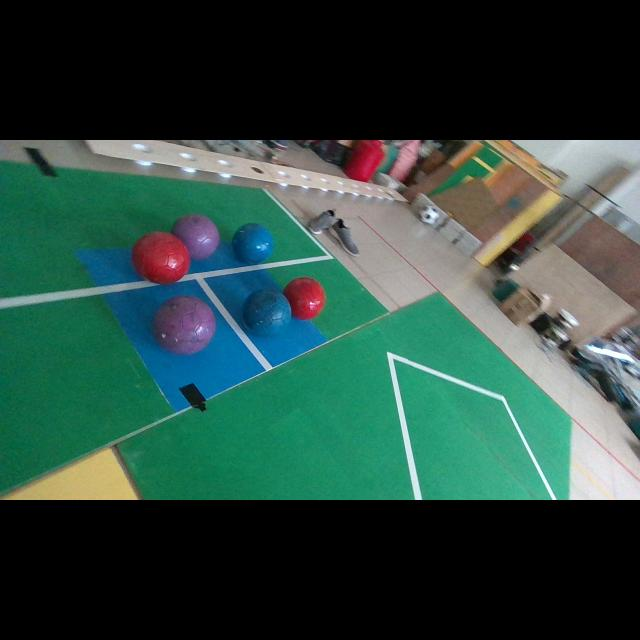B: (242, 290, 291, 337), (232, 224, 272, 264)
P: (152, 295, 216, 354), (171, 215, 220, 259)
R: (131, 231, 190, 284), (284, 278, 326, 320)
